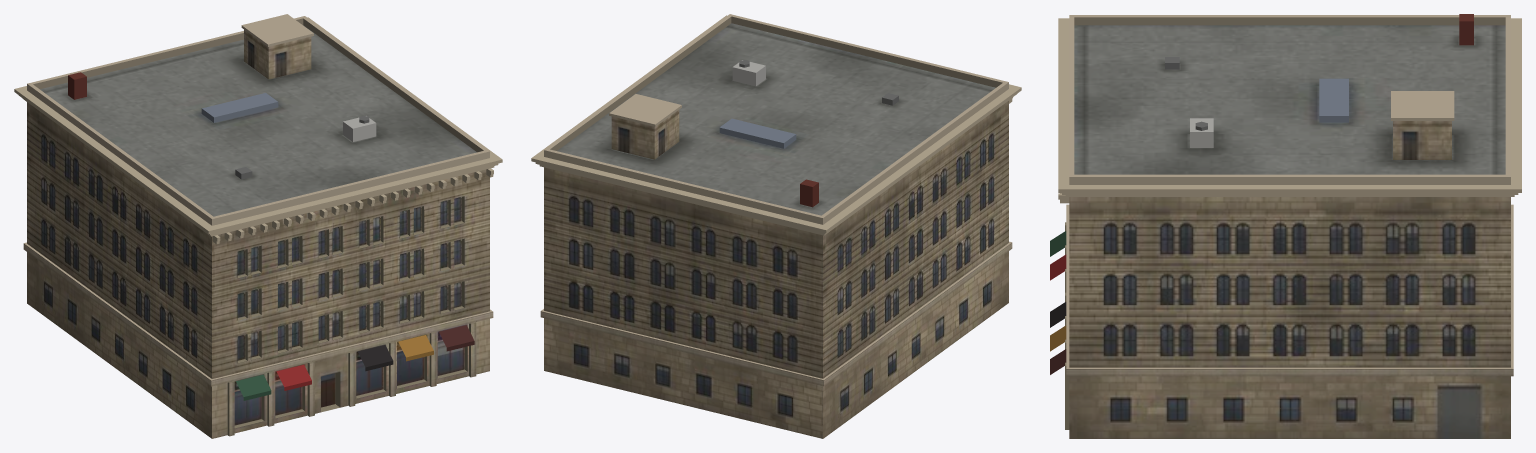
Rendered from seattle_pioneer_c.glb.
The picture shows the model from 3 angles, left to right: view 1: azimuth 30°, elevation 25°; view 2: azimuth 150°, elevation 25°; view 3: azimuth 270°, elevation 25°; orthographic projection. The views are drawn at different scales.
Parts seen in each view (by area): view 1: seattle_pioneer_c; view 2: seattle_pioneer_c; view 3: seattle_pioneer_c.
Part boxes in pixels (x1,y1,x2,y2): seattle_pioneer_c: [14, 14, 502, 438]; seattle_pioneer_c: [531, 14, 1021, 438]; seattle_pioneer_c: [1050, 14, 1521, 438].
Bounding box in the file's own units: 27.5 × 22.27 × 32.05.
Materials: 1 (1 with a texture image).
